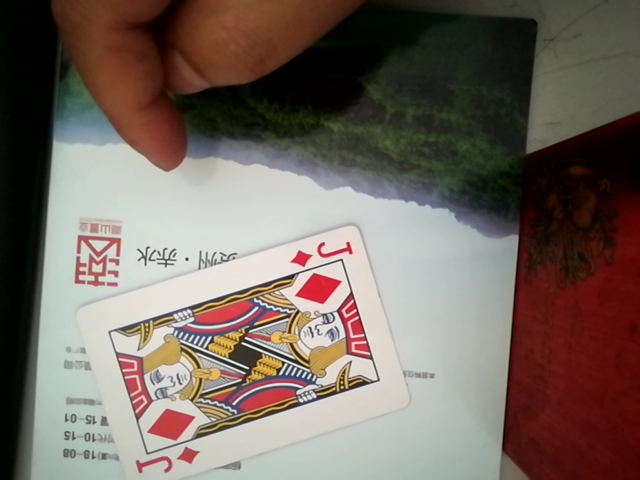fk j: (85, 226, 415, 477)
